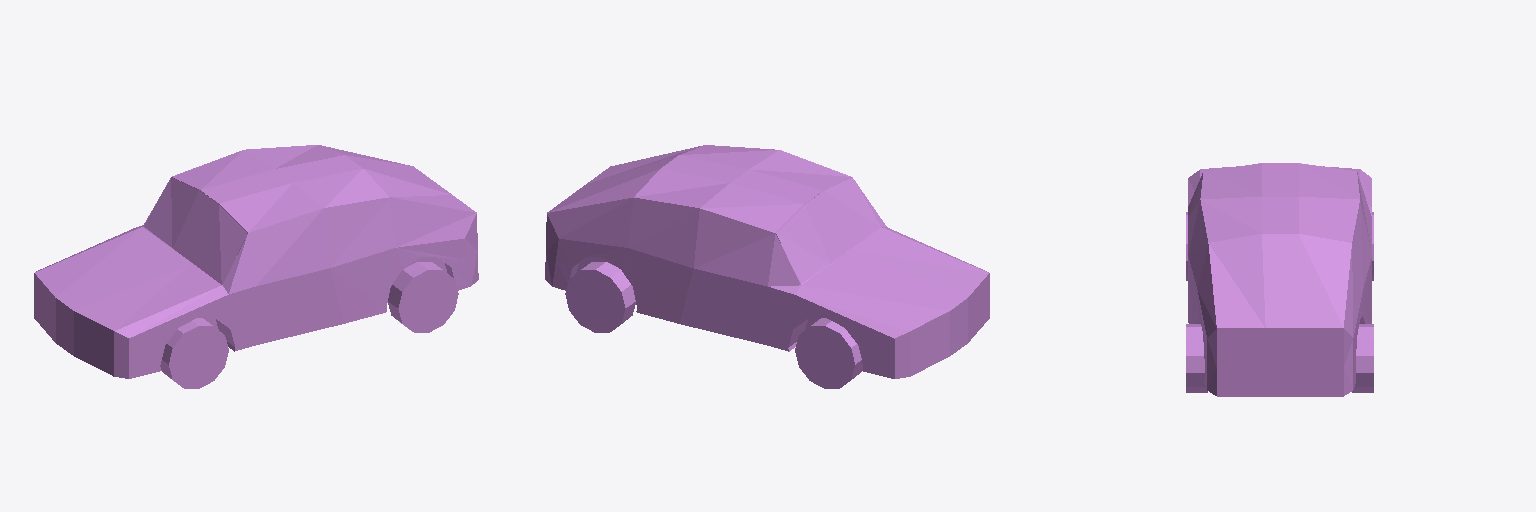
File: carro.obj
The picture shows the model from 3 angles: view 1: azimuth 30°, elevation 25°; view 2: azimuth 150°, elevation 25°; view 3: azimuth 270°, elevation 25°; orthographic projection.
Visible parts, largest first — view 1: Box001; view 2: Box001; view 3: Box001.
Part boxes in pixels (left/top/right/bottom): Box001: left=34, top=145, right=478, bottom=388; Box001: left=545, top=145, right=989, bottom=388; Box001: left=1186, top=163, right=1373, bottom=396.
Bounding box in the file's own units: 83.36 × 30.49 × 35.61.